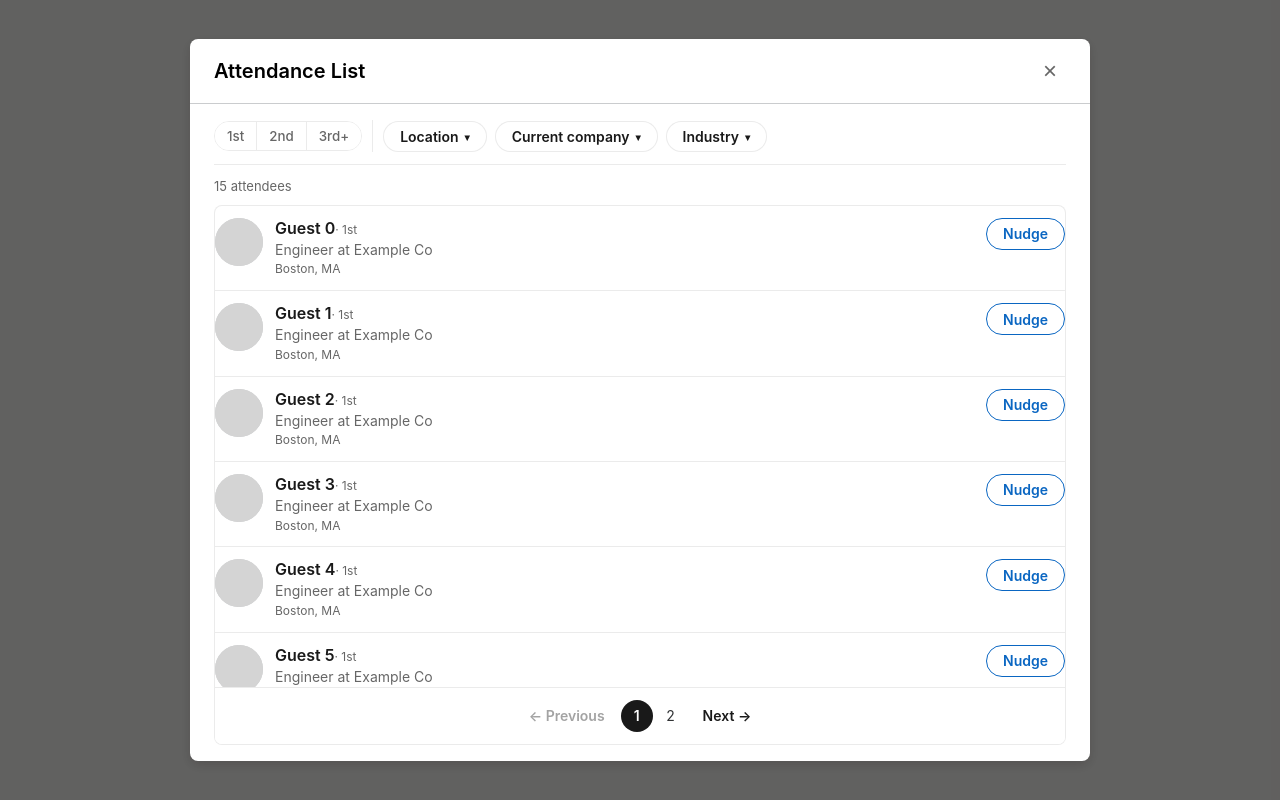
Test: AttendeeModal › paginates attendees with 10 per page
Expected: the text "Guest 0" is shown, [275,218,335,238]
Expected: the text "Guest 10" is not shown
Click the button with aria-label "Next page". click: (727, 716)
box: [689,700,765,732]
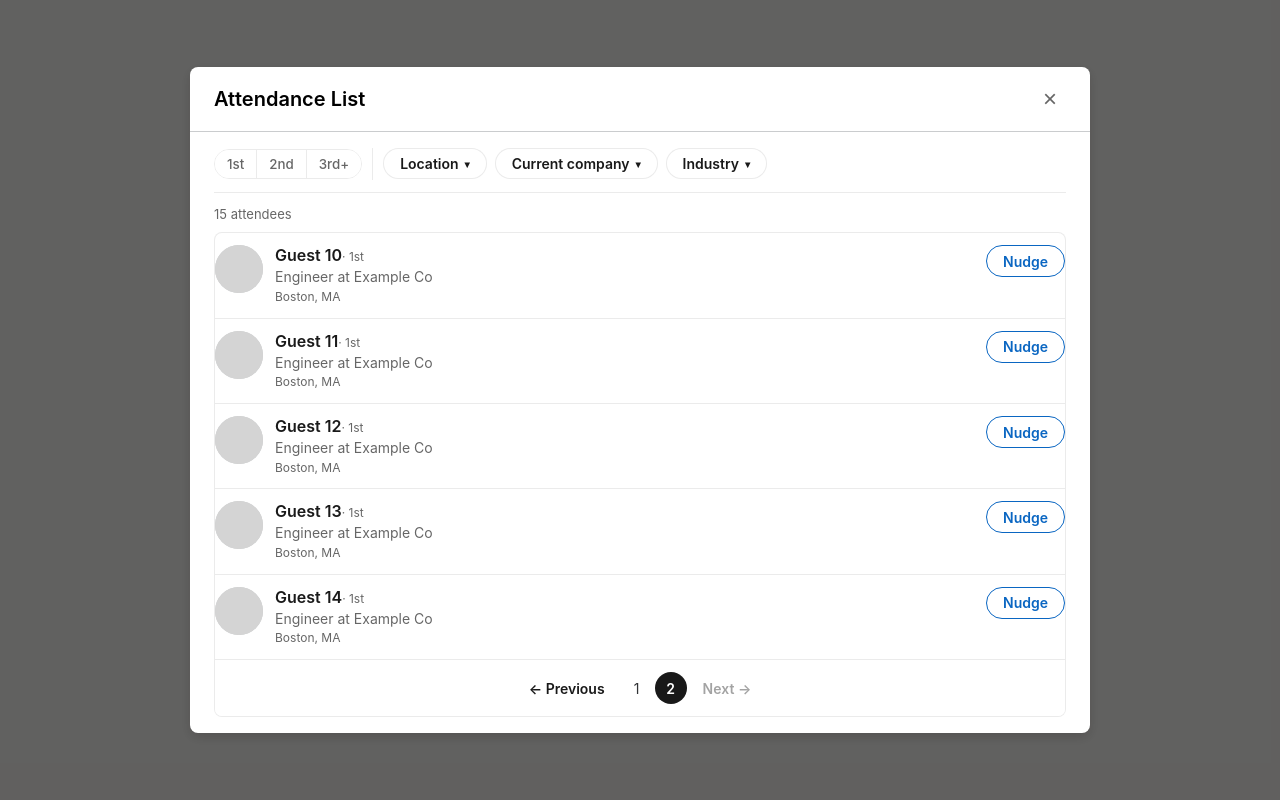
Now the text "Guest 10" is shown, box [275,245,342,265]
Now the text "Guest 0" is gone
